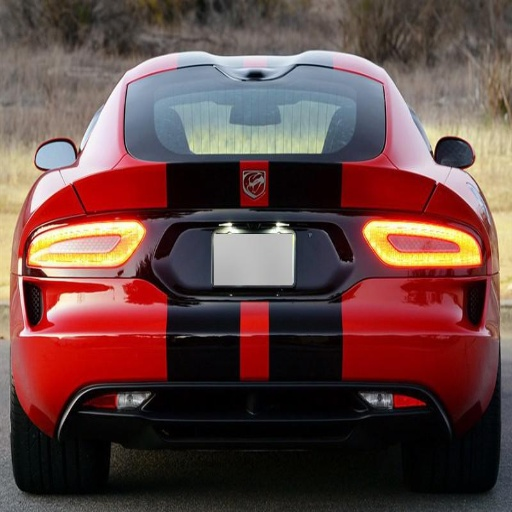back_bumper: (13, 329, 130, 432), (392, 327, 497, 433)
trunk: (29, 154, 390, 256), (400, 275, 480, 380), (31, 308, 123, 381)
